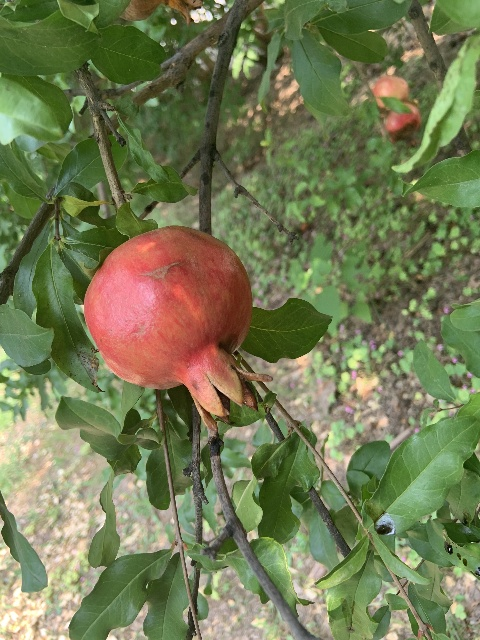ripe: (84, 225, 272, 432), (373, 75, 409, 107)
